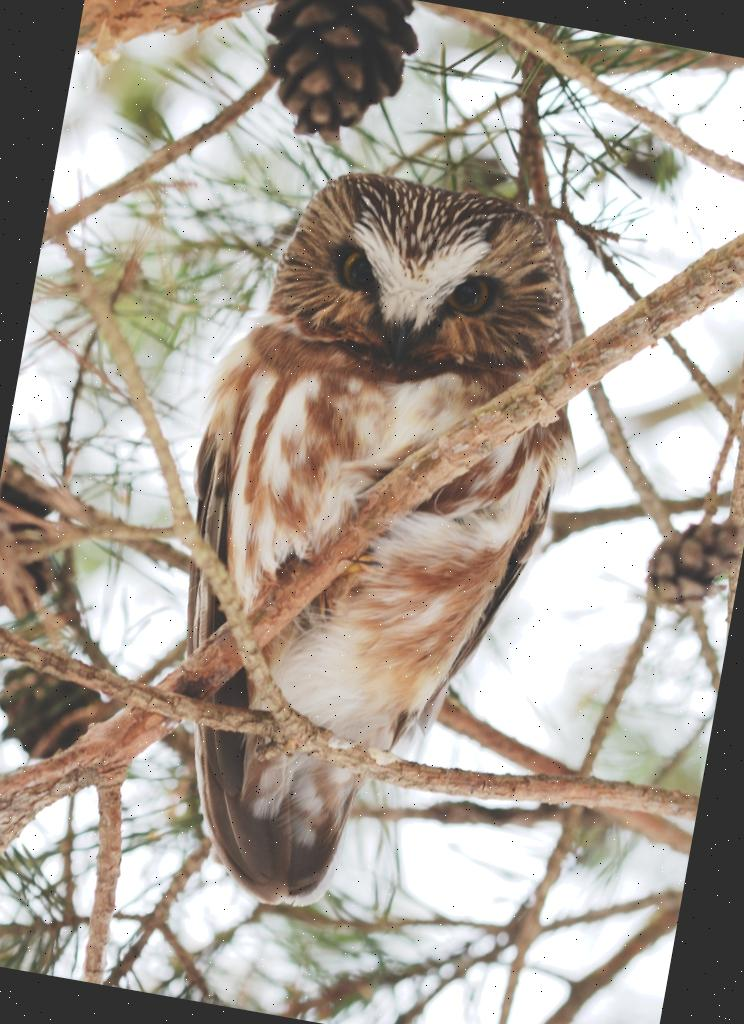Owl: (108, 150, 623, 950)
